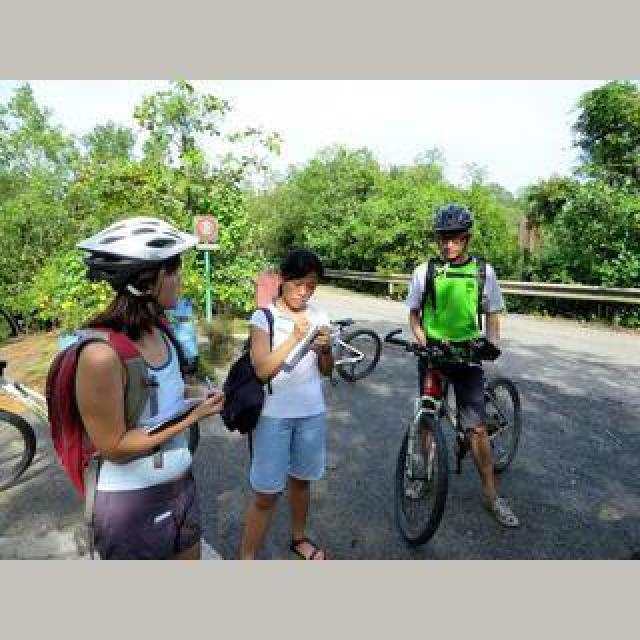MC-Bike: (54, 232, 226, 554), (226, 248, 344, 556), (404, 198, 510, 528)
Person: (380, 330, 524, 546), (306, 318, 382, 384)
